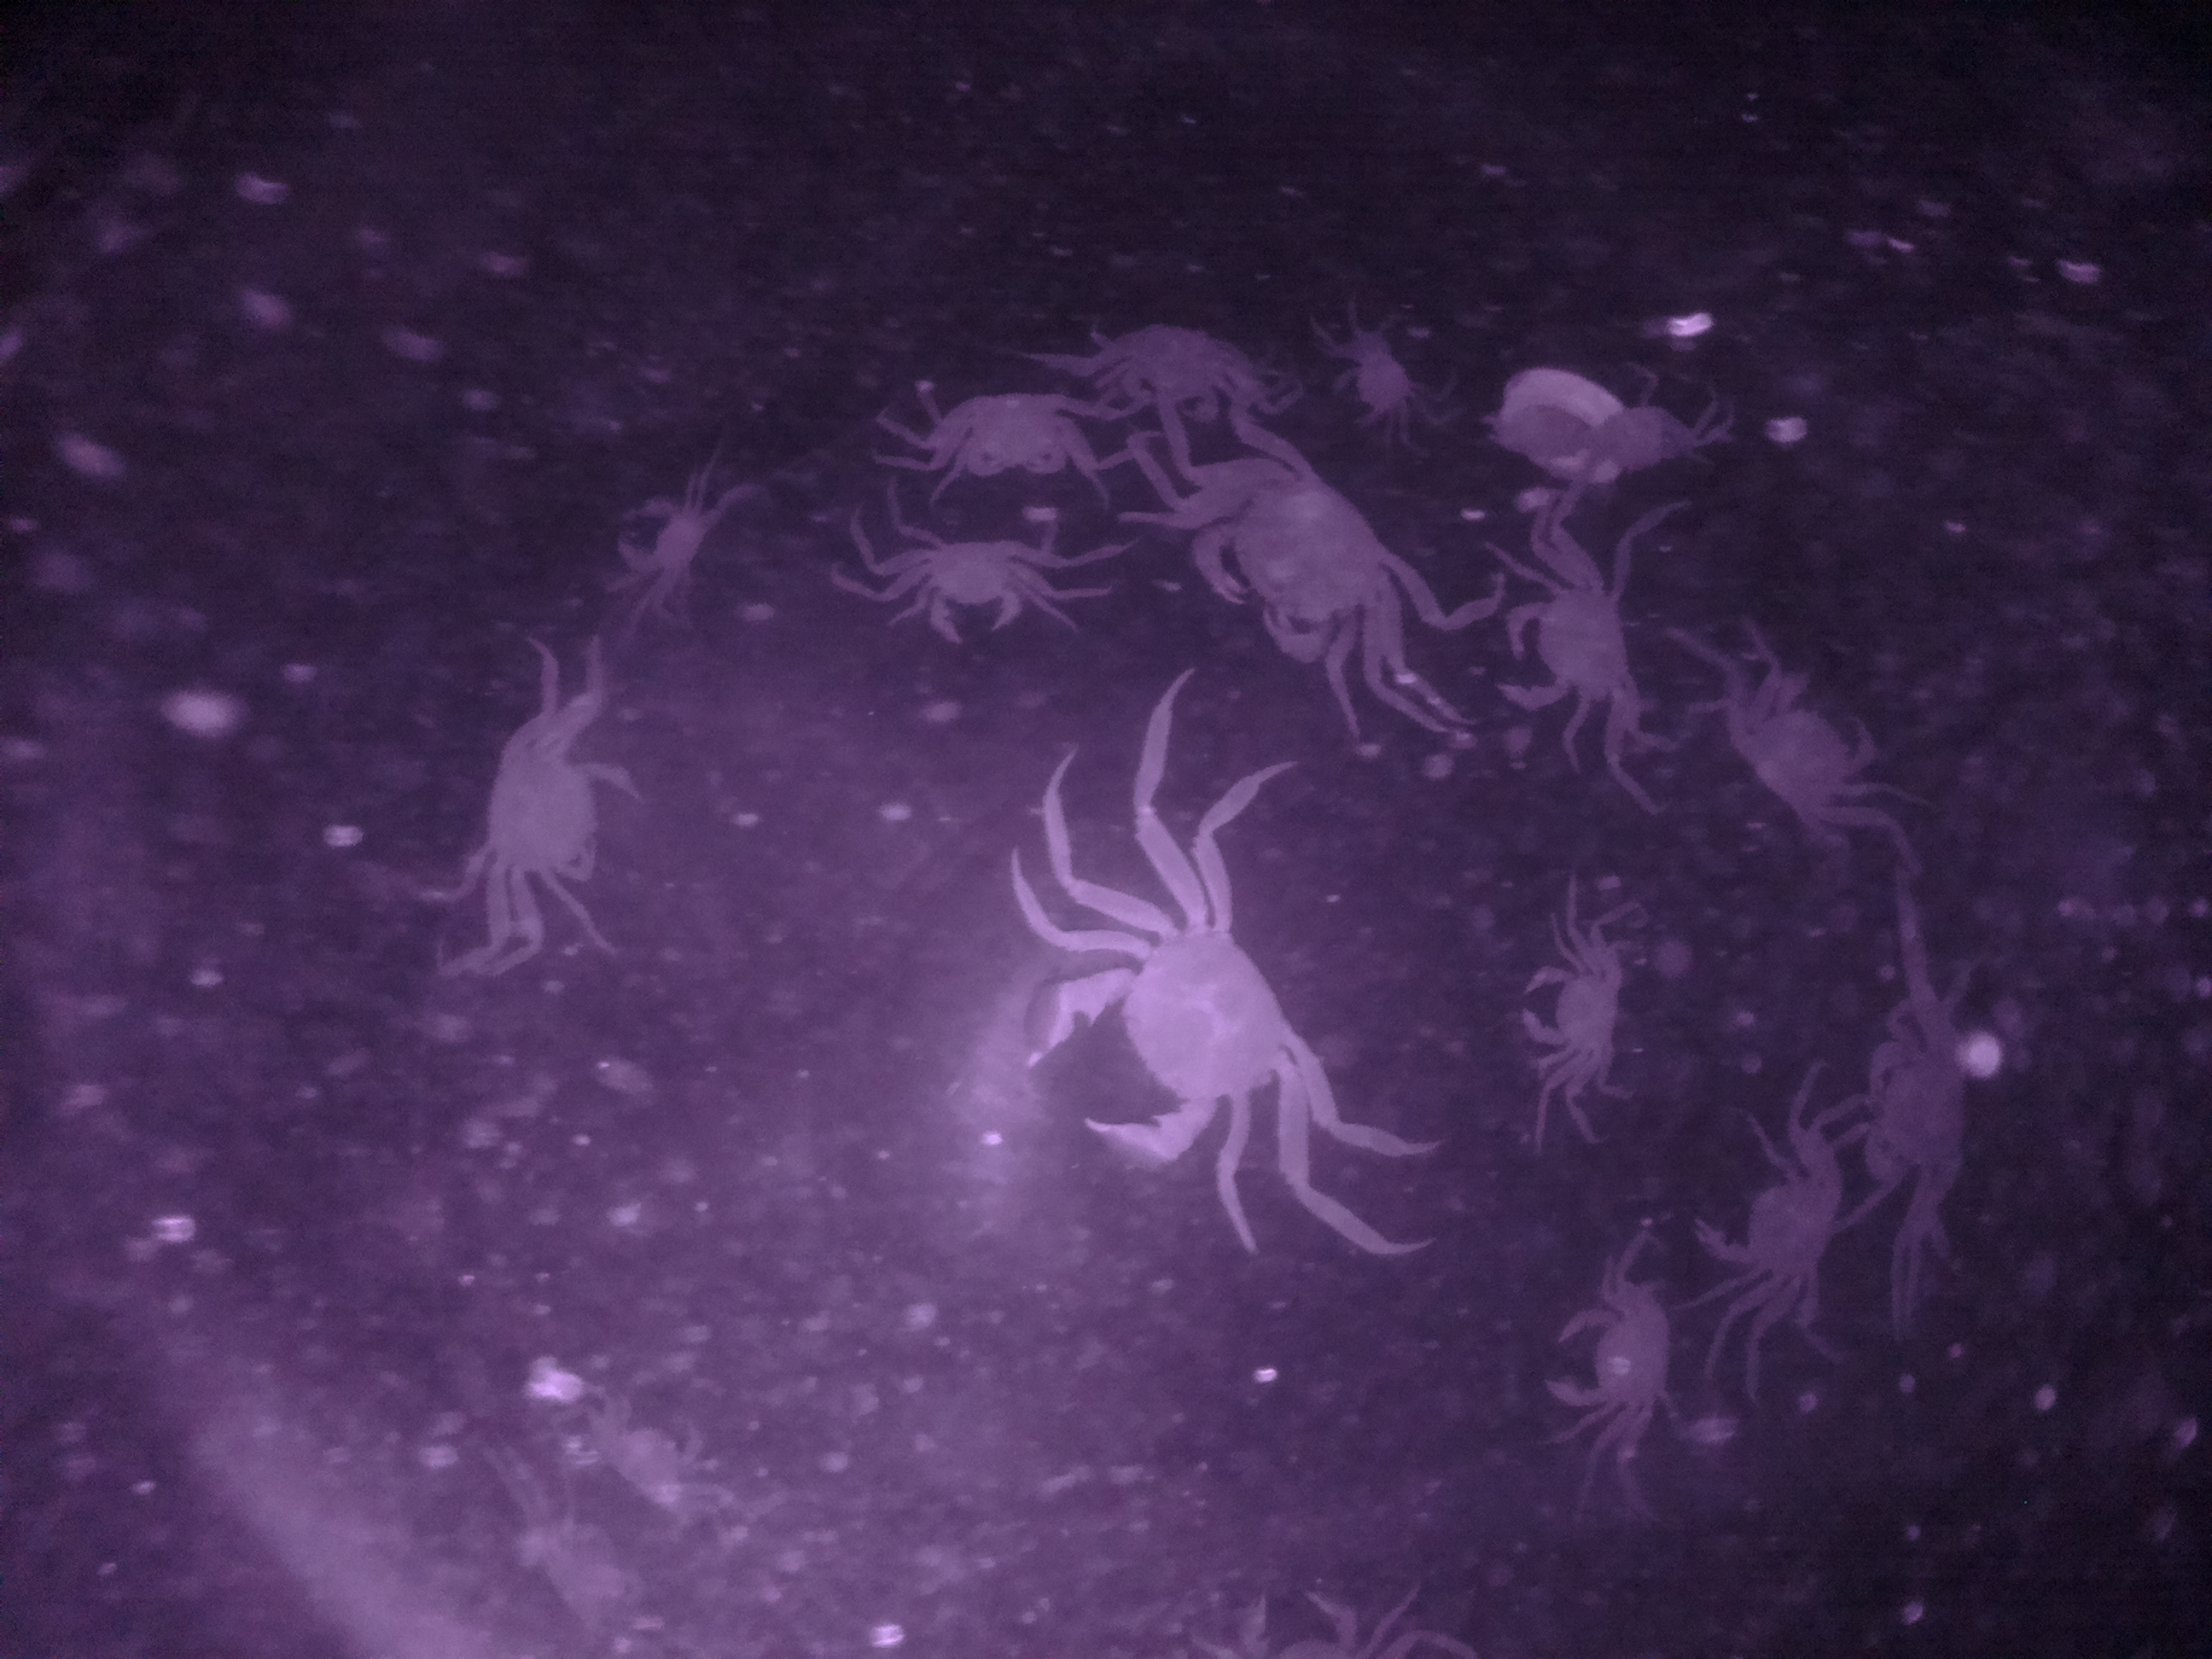Crab: (1007, 884, 1329, 1185), (1172, 420, 1420, 681), (451, 702, 651, 913), (1688, 1103, 1857, 1307), (1710, 671, 1886, 849), (1487, 552, 1646, 739), (1524, 1279, 1681, 1450), (909, 373, 1123, 491), (874, 521, 1064, 641), (1505, 941, 1644, 1079), (613, 484, 730, 598)
